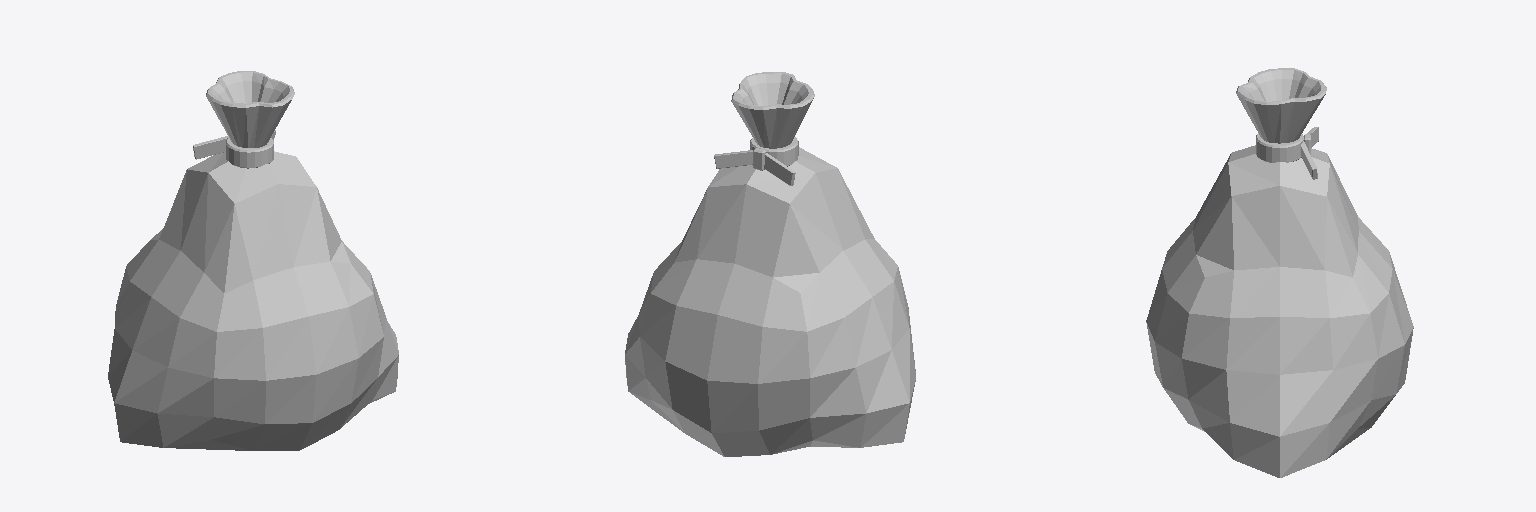
The model's file is sako.obj.
3 views of the same model, side by side, from view 1: azimuth 30°, elevation 25°; view 2: azimuth 150°, elevation 25°; view 3: azimuth 270°, elevation 25° (orthographic).
Visible parts, largest first — view 1: Sack_01, Squiggly_01, Twine_01; view 2: Sack_01, Squiggly_01, Twine_01, Twine_strand_02; view 3: Sack_01, Squiggly_01, Twine_01.
Boxes of the visible parts, x1=… form: Sack_01: x1=108, y1=151, x2=398, y2=450; Squiggly_01: x1=206, y1=71, x2=294, y2=147; Twine_01: x1=226, y1=137, x2=273, y2=168; Sack_01: x1=625, y1=147, x2=915, y2=456; Squiggly_01: x1=731, y1=72, x2=814, y2=148; Twine_01: x1=750, y1=137, x2=798, y2=166; Twine_strand_02: x1=714, y1=150, x2=752, y2=168; Sack_01: x1=1146, y1=145, x2=1413, y2=477; Squiggly_01: x1=1236, y1=68, x2=1326, y2=143; Twine_01: x1=1256, y1=133, x2=1303, y2=162.
Bounding box in the file's own units: 1.07 × 1.21 × 0.876.